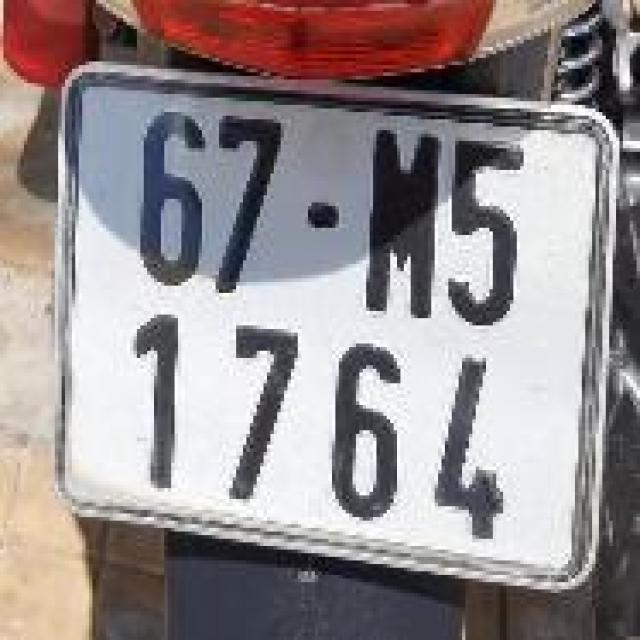1: (122, 309, 186, 490)
4: (433, 346, 515, 552)
5: (450, 137, 525, 329)
6: (323, 333, 412, 535), (133, 101, 209, 286)
7: (210, 315, 310, 506), (214, 114, 286, 302)
M: (352, 125, 448, 331)
